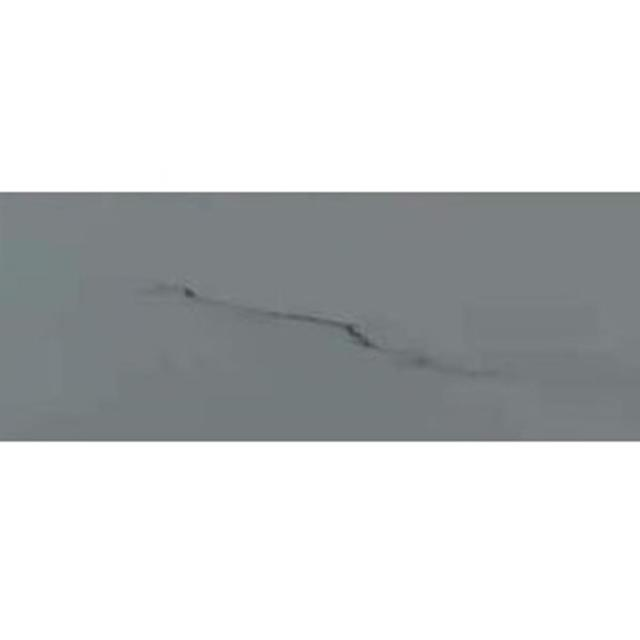crack: (178, 289, 410, 354)
